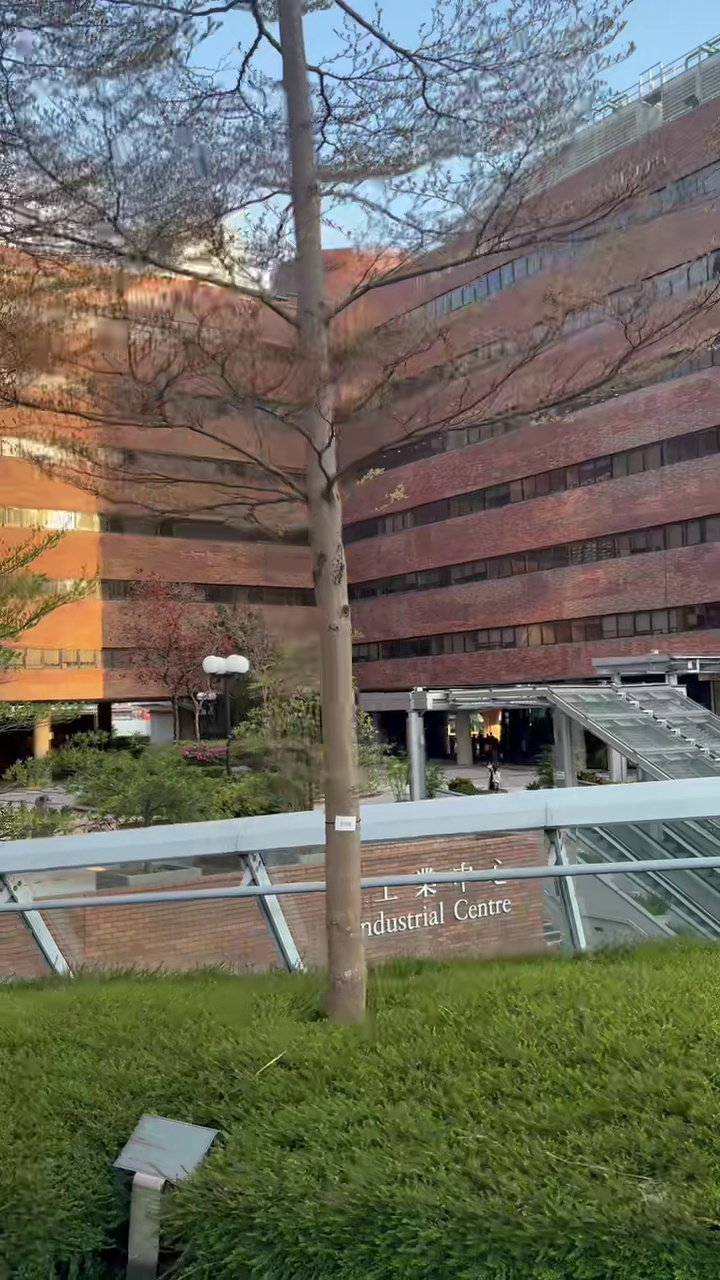Terminalia mantaly: (0, 0, 643, 1021)
